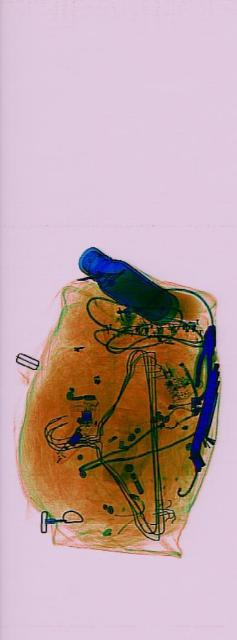Pliers: (193, 314, 217, 396)
